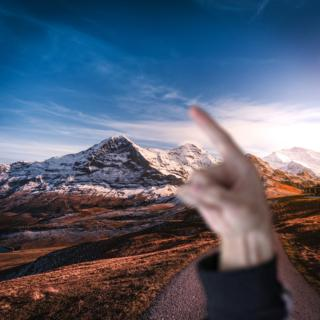IRRITATED: (168, 102, 272, 236)
